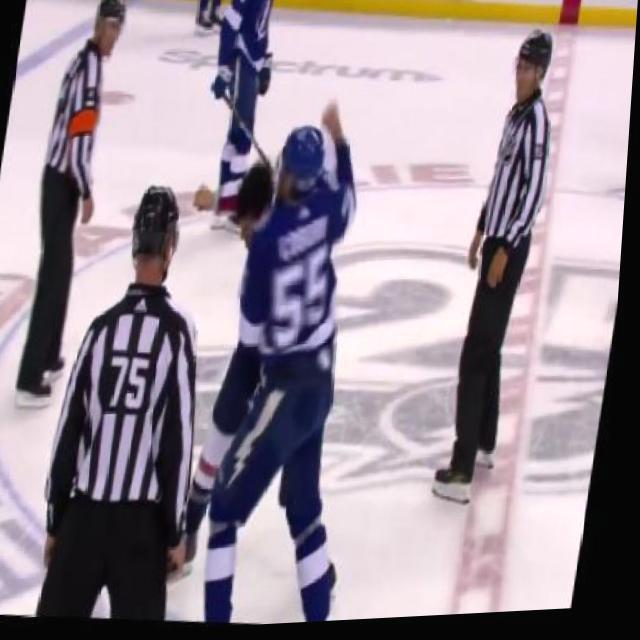fight: (196, 92, 372, 629)
